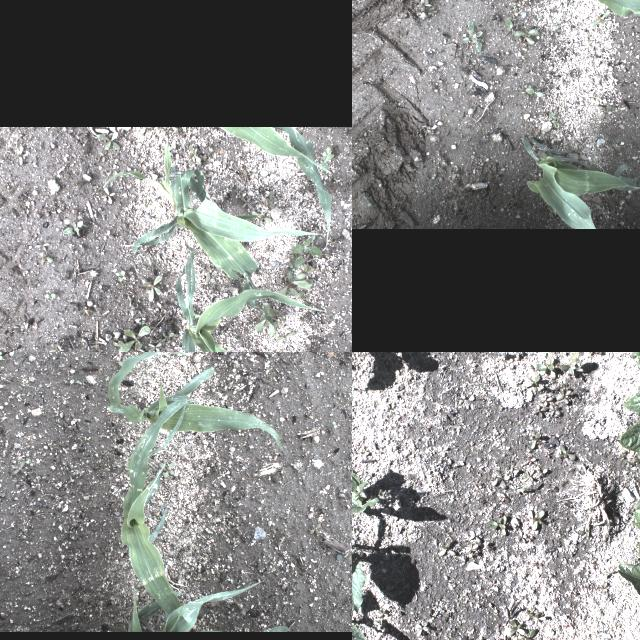crop: (104, 142, 322, 290), (106, 352, 283, 450), (120, 399, 193, 627), (176, 245, 328, 352), (218, 127, 332, 246), (520, 137, 640, 227), (160, 581, 264, 631), (127, 590, 185, 632), (616, 558, 640, 629), (352, 453, 380, 512), (618, 419, 640, 463), (352, 352, 405, 369), (629, 518, 640, 569), (262, 625, 292, 631)
weed: (500, 14, 540, 46), (292, 236, 324, 268), (255, 302, 283, 334), (279, 271, 315, 295), (117, 328, 151, 352), (458, 21, 484, 51), (142, 274, 164, 304), (95, 131, 121, 151), (560, 352, 580, 378), (437, 538, 457, 558), (524, 372, 544, 392), (556, 442, 576, 460), (185, 144, 201, 166), (530, 508, 546, 530), (525, 432, 547, 448), (98, 185, 115, 205), (14, 142, 28, 166), (626, 447, 640, 470), (64, 220, 84, 236), (487, 516, 507, 532), (321, 144, 335, 166), (414, 619, 430, 637), (496, 469, 510, 488), (238, 194, 254, 210), (158, 462, 174, 478), (508, 620, 524, 636), (531, 402, 547, 418), (556, 388, 572, 404), (528, 612, 546, 626), (516, 628, 536, 640), (12, 459, 26, 475), (468, 528, 482, 544), (465, 543, 479, 559), (516, 478, 532, 492), (289, 290, 311, 300), (276, 330, 298, 340), (532, 360, 554, 370), (34, 237, 50, 250), (252, 211, 272, 221), (521, 468, 535, 482), (158, 126, 182, 134), (41, 252, 54, 266), (260, 242, 274, 255), (47, 342, 65, 352), (548, 356, 556, 378), (524, 607, 536, 621), (598, 582, 610, 596), (136, 126, 156, 134), (205, 266, 213, 286), (385, 401, 397, 414), (376, 608, 389, 620), (536, 466, 548, 479), (499, 514, 506, 536), (116, 270, 128, 282), (267, 190, 275, 208), (548, 404, 560, 416), (44, 290, 58, 300), (372, 616, 382, 630), (488, 476, 502, 486), (517, 530, 527, 544), (505, 466, 519, 476), (540, 394, 554, 404), (526, 509, 534, 526), (160, 332, 173, 342), (10, 322, 26, 330), (92, 184, 102, 196), (100, 150, 110, 162), (303, 265, 315, 275), (309, 524, 321, 534), (187, 157, 200, 166), (523, 456, 537, 464), (540, 571, 554, 579), (149, 343, 161, 352), (288, 262, 298, 272), (500, 492, 510, 502), (532, 560, 542, 570), (554, 380, 564, 390), (543, 576, 551, 588), (590, 557, 598, 569), (378, 489, 387, 499), (584, 524, 590, 538), (60, 338, 70, 346), (602, 570, 612, 578), (561, 382, 569, 392), (471, 479, 482, 486), (618, 452, 626, 460), (30, 344, 40, 350), (142, 348, 154, 352), (144, 199, 150, 207), (544, 450, 550, 458), (342, 552, 348, 558), (624, 459, 630, 465), (138, 320, 146, 324), (274, 602, 278, 610), (206, 530, 214, 534), (452, 463, 460, 467), (0, 352, 3, 361), (628, 514, 634, 518)
